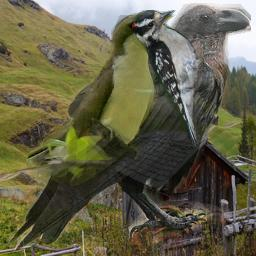Crow: (6, 3, 251, 253)
Cuckoo: (26, 9, 176, 186)
Woodpecker: (132, 10, 220, 147)
